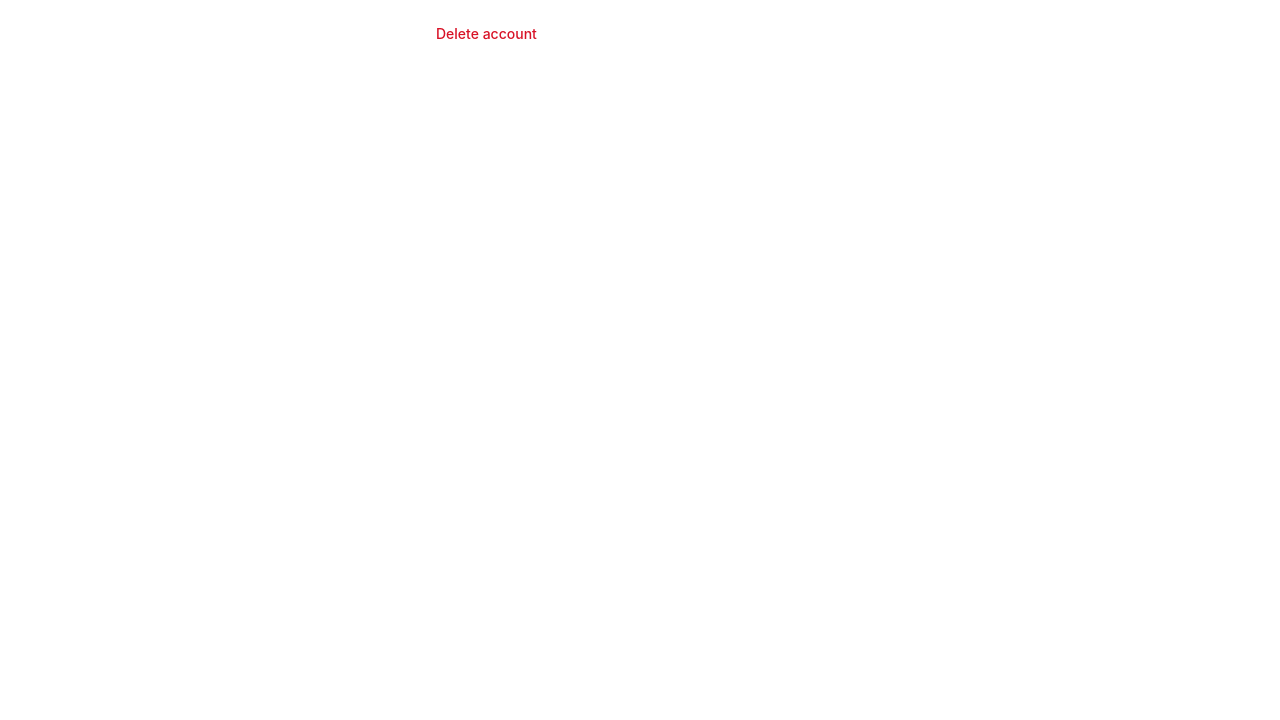
Test: does not delete when the member cancels
Later steps or results of the test are not shown.
Click the button "Delete account". click: (486, 34)
box: [436,12,537,56]
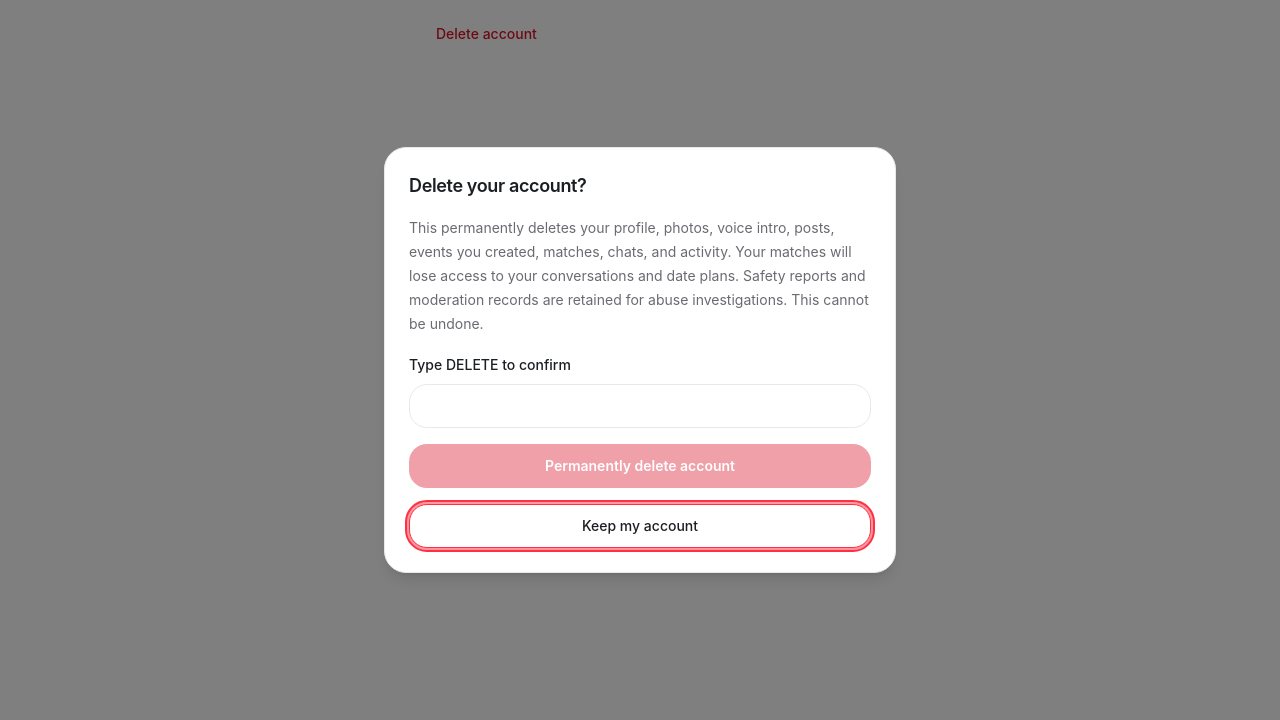
Expected: the text "Safety reports and moderation records are retained" is shown, [409,219,869,332]
